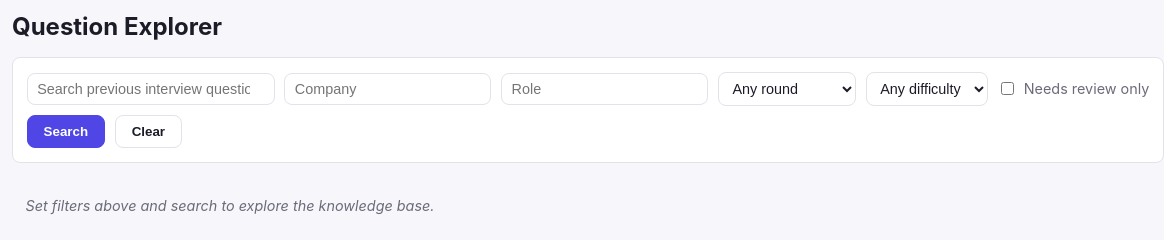
Test: QuestionExplorerPage › shows an error message when the search fails
Click the button "Search".
click(66, 132)  # box 27,116 -> 105,148
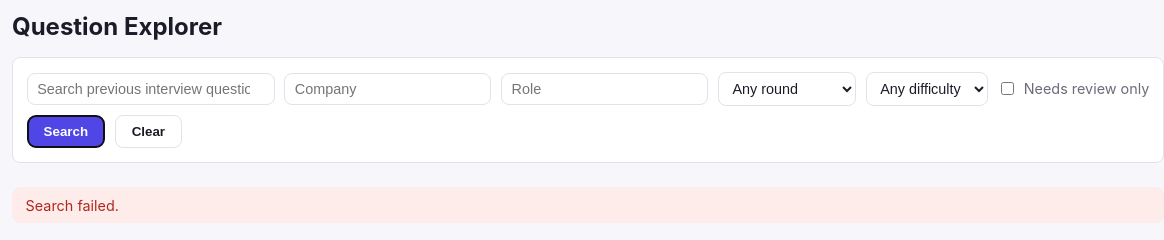
Check: the message "Search failed." is shown, box 12,187 -> 1163,223
